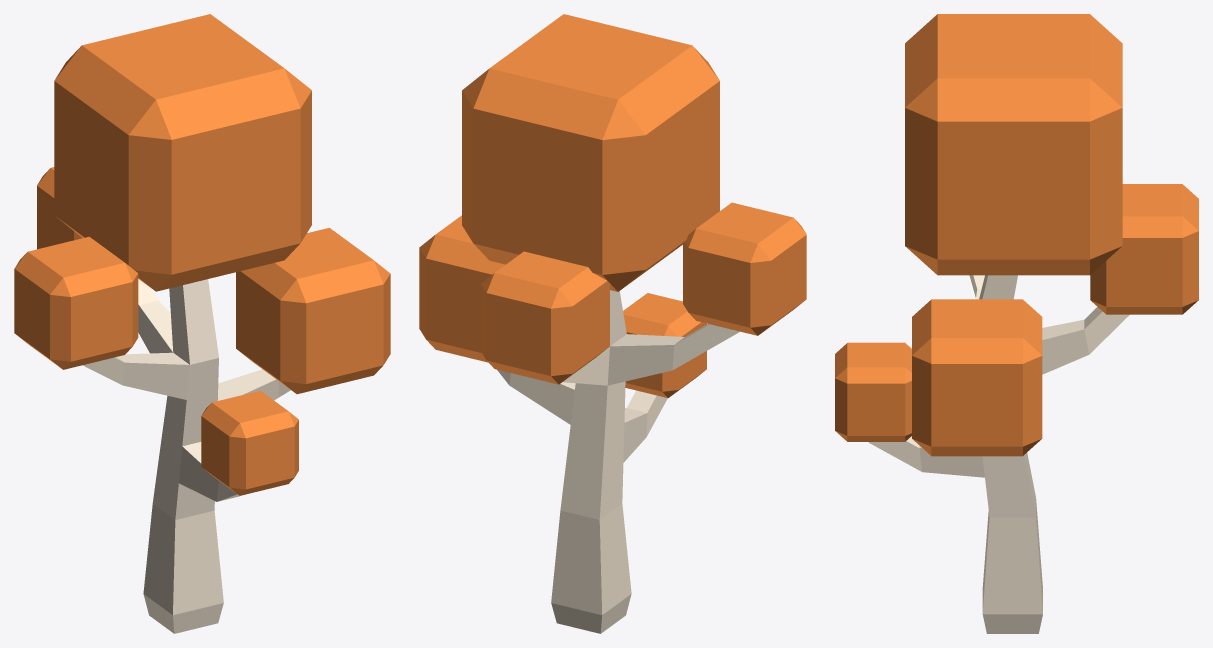
The model's file is tree_detailed_fall.dae.
3 renders of one model, left to right at view 1: azimuth 30°, elevation 25°; view 2: azimuth 150°, elevation 25°; view 3: azimuth 270°, elevation 25°, orthographic. The views are drawn at different scales.
Visible parts, largest first — view 1: tree_detailed_fall; view 2: tree_detailed_fall; view 3: tree_detailed_fall.
Part boxes in pixels (left/top/right/bottom): tree_detailed_fall: left=14, top=14, right=390, bottom=633; tree_detailed_fall: left=419, top=14, right=806, bottom=633; tree_detailed_fall: left=835, top=14, right=1198, bottom=633.
Bounding box in the file's own units: 0.8471 × 1.33 × 0.7616.
